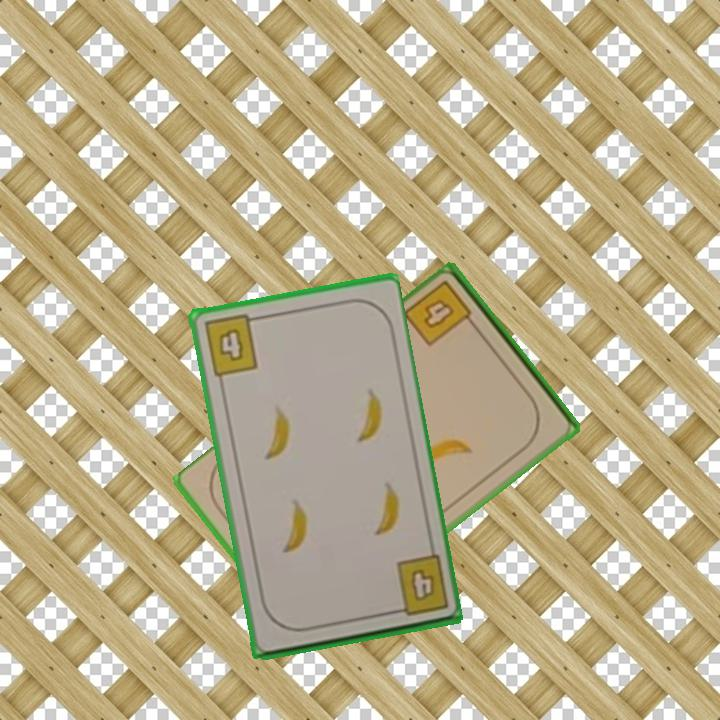4b: (400, 277, 481, 350), (386, 552, 451, 619), (200, 311, 262, 379)
